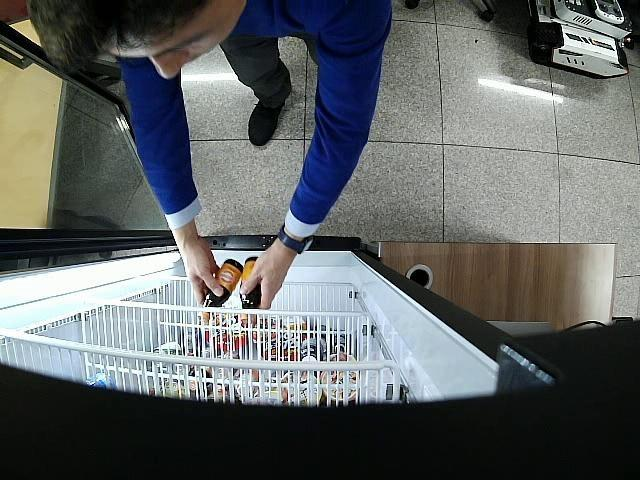17_vita500: (202, 258, 242, 319), (240, 256, 262, 322)
